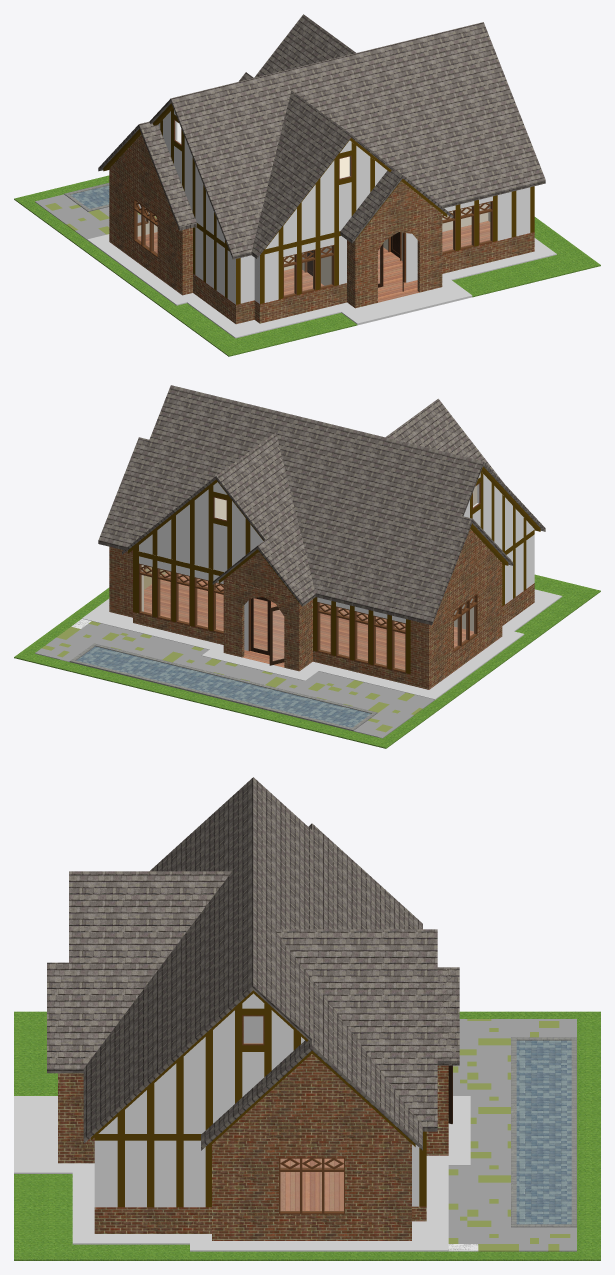
File: Tudor House_11.glb
3 renders of one model, top to bottom at view 1: azimuth 30°, elevation 25°; view 2: azimuth 150°, elevation 25°; view 3: azimuth 270°, elevation 25°, orthographic. The views are drawn at different scales.
Visible parts, largest first — view 1: group_50, instance_6.002, instance_7.129, instance_4.003, instance_5.001, group_51.004, group_1, group_31, group_69.004, group_69.039, group_69.006, group_41; view 2: group_50, instance_6.002, instance_7.129, instance_5.001, group_51.004, group_41, instance_4.003, group_40.002, group_1, group_69.036, group_110, group_22.019 (+2 smaller); view 3: group_50, instance_7.129, instance_6.002, instance_4.003, instance_5.001, group_41, group_1.008, group_51.004, group_40.002, instance_5.008, group_69.018.
Boxes of the visible parts, x1,y1,x2,y2 form: group_50: (98, 22, 545, 259); instance_6.002: (103, 103, 534, 324); instance_7.129: (14, 175, 600, 356); instance_4.003: (251, 90, 453, 258); instance_5.001: (238, 14, 355, 81); group_51.004: (137, 221, 490, 302); group_1: (109, 134, 173, 215); group_31: (360, 181, 441, 233); group_69.004: (283, 245, 334, 298); group_69.039: (442, 201, 492, 254); group_69.006: (133, 199, 157, 257); group_41: (71, 185, 109, 208); group_50: (98, 385, 545, 625); instance_6.002: (109, 466, 540, 689); instance_7.129: (14, 574, 600, 748); instance_5.001: (122, 432, 315, 606); group_51.004: (144, 571, 473, 669); group_41: (76, 646, 370, 727); instance_4.003: (385, 398, 503, 482); group_40.002: (69, 643, 377, 731); group_1: (438, 529, 501, 609); group_69.036: (317, 602, 405, 673); group_110: (139, 563, 223, 633); group_22.019: (224, 552, 293, 596); group_50: (83, 777, 422, 1150); instance_7.129: (14, 1011, 600, 1260); instance_6.002: (58, 990, 448, 1240); instance_4.003: (47, 871, 231, 1073); instance_5.001: (274, 929, 437, 1131); group_41: (516, 1040, 571, 1224); group_1.008: (216, 1054, 407, 1140); group_51.004: (280, 1158, 343, 1210); group_40.002: (511, 1037, 576, 1227); instance_5.008: (437, 967, 459, 1065); group_69.018: (279, 1157, 344, 1214).
Bounding box in the file's own units: 16 × 7.71 × 16.
21 materials, 14 textured.
